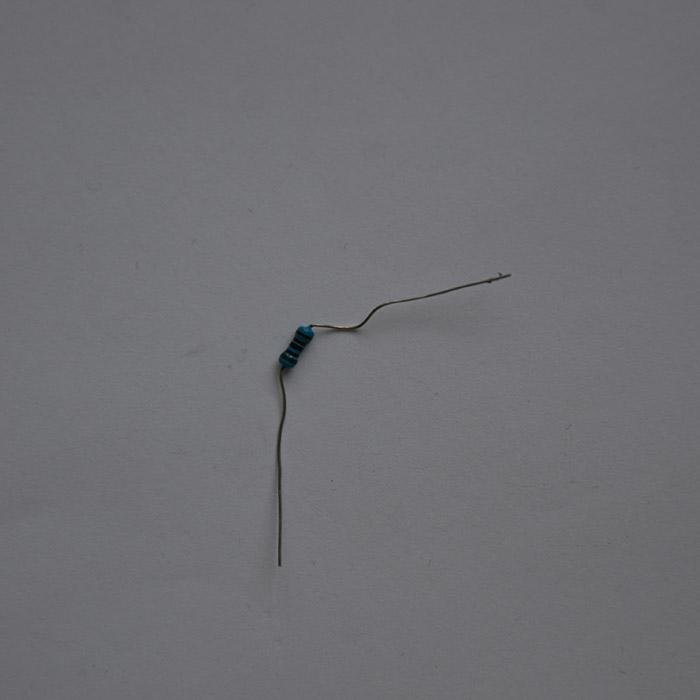resistor: (277, 324, 314, 370)
